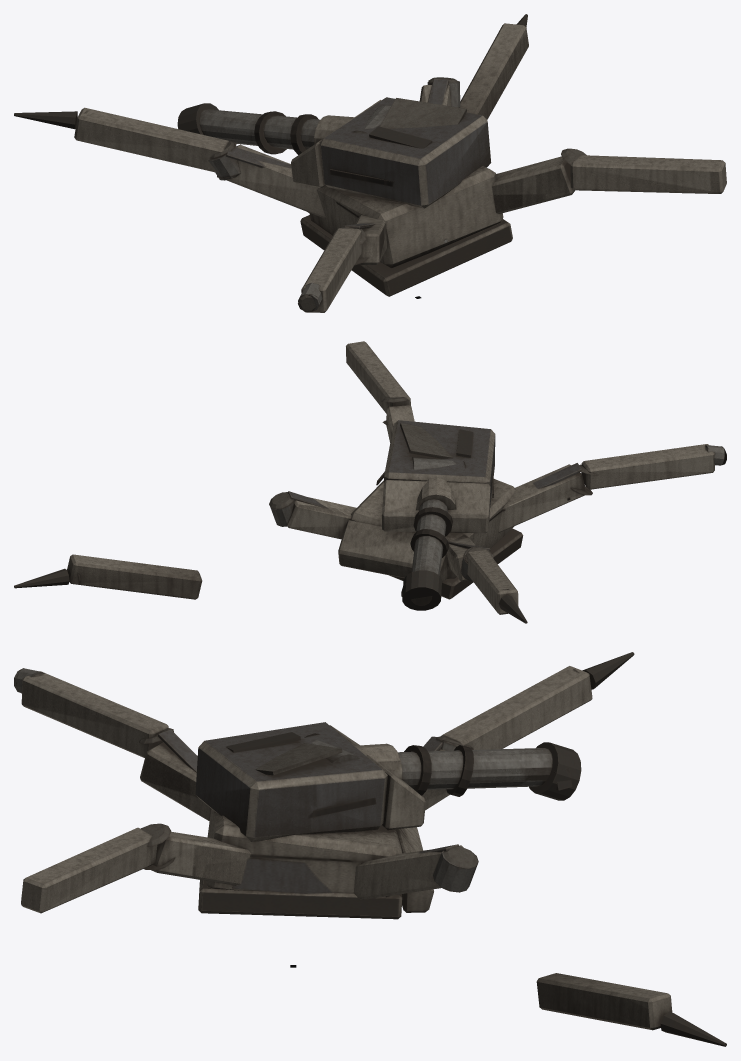
Rendered from ord_monolith_wreck.fbx.
The picture shows the model from 3 angles, top to bottom: view 1: azimuth 30°, elevation 25°; view 2: azimuth 150°, elevation 25°; view 3: azimuth 270°, elevation 25°; orthographic projection. The views are drawn at different scales.
Visible parts, largest first — view 1: torso_bar, base_bar, shinFL_bar, barrel_bar, shinBR_bar, thighFL_bar, thighBR_bar, shinFR_bar, shinBL_bar, thighBL_bar, thighFR_bar; view 2: torso_bar, base_bar, barrel_bar, shinFR_bar, shinBL_bar, thighBL_bar, thighFR_bar, shinFL_bar, shinBR_bar, thighFL_bar, thighBR_bar; view 3: torso_bar, base_bar, barrel_bar, shinFL_bar, shinFR_bar, shinBL_bar, shinBR_bar, thighFR_bar, thighBR_bar, thighBL_bar, thighFL_bar.
Boxes of the visible parts, box(x1,y1,x2,y2) form: torso_bar: box(291, 97, 491, 208); base_bar: box(300, 166, 512, 296); shinFL_bar: box(14, 107, 228, 172); barrel_bar: box(177, 103, 391, 154); shinBR_bar: box(570, 155, 726, 193); thighFL_bar: box(208, 141, 325, 218); thighBR_bar: box(492, 148, 586, 213); shinFR_bar: box(460, 14, 528, 119); shinBL_bar: box(298, 228, 362, 312); thighBL_bar: box(333, 215, 387, 265); thighFR_bar: box(419, 77, 460, 107); torso_bar: box(376, 420, 495, 533); base_bar: box(338, 479, 523, 599); barrel_bar: box(401, 456, 465, 610); shinFR_bar: box(14, 554, 202, 599); shinBL_bar: box(581, 444, 726, 489); thighBL_bar: box(498, 463, 598, 532); thighFR_bar: box(269, 491, 356, 539); shinFL_bar: box(466, 549, 527, 623); shinBR_bar: box(346, 341, 410, 413); thighFL_bar: box(446, 534, 493, 581); thighBR_bar: box(381, 397, 414, 442); torso_bar: box(195, 722, 425, 841); base_bar: box(198, 808, 433, 919); barrel_bar: box(304, 733, 581, 800); shinFL_bar: box(441, 652, 634, 749); shinFR_bar: box(536, 973, 726, 1046); shinBL_bar: box(14, 668, 168, 757); shinBR_bar: box(21, 827, 157, 913); thighFR_bar: box(353, 844, 478, 899); thighBR_bar: box(141, 823, 251, 885); thighBL_bar: box(139, 728, 210, 821); thighFL_bar: box(422, 736, 473, 810).
Size of the model in its own units: 2392 by 766 by 2276.
Materials: 2 (2 with a texture image).
